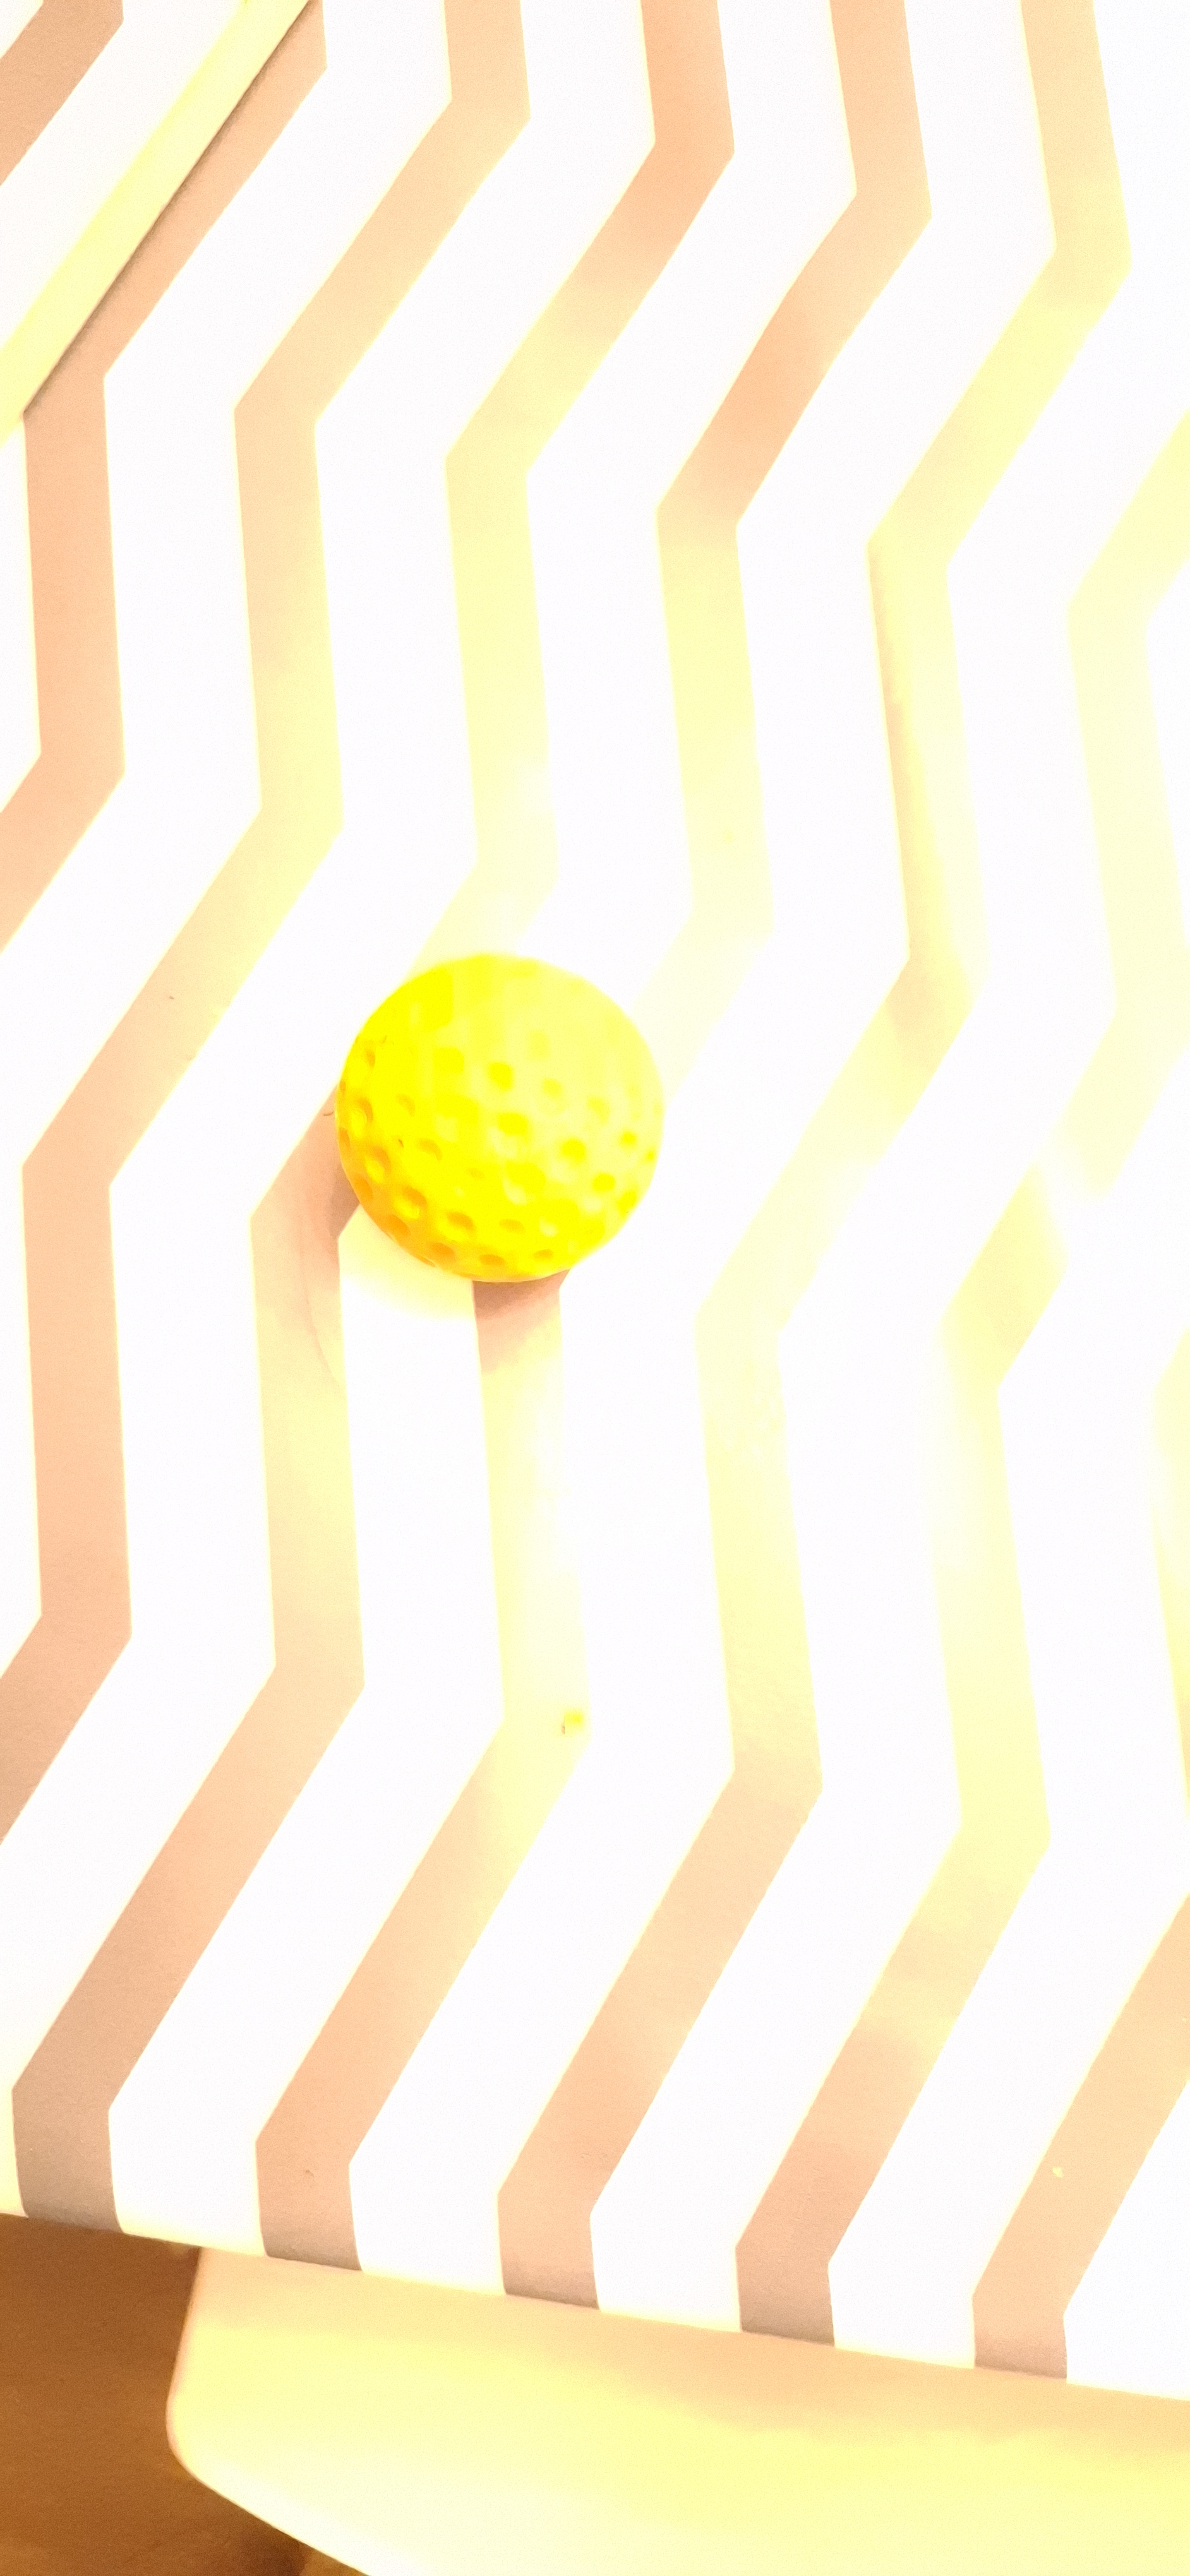ball: (444, 1155, 593, 1879)
